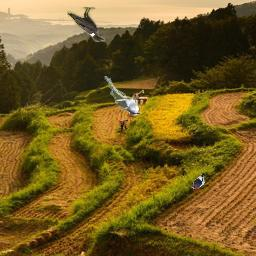Crow: (67, 7, 105, 42)
Cuckoo: (104, 76, 140, 116)
Woodpecker: (190, 173, 205, 189)
